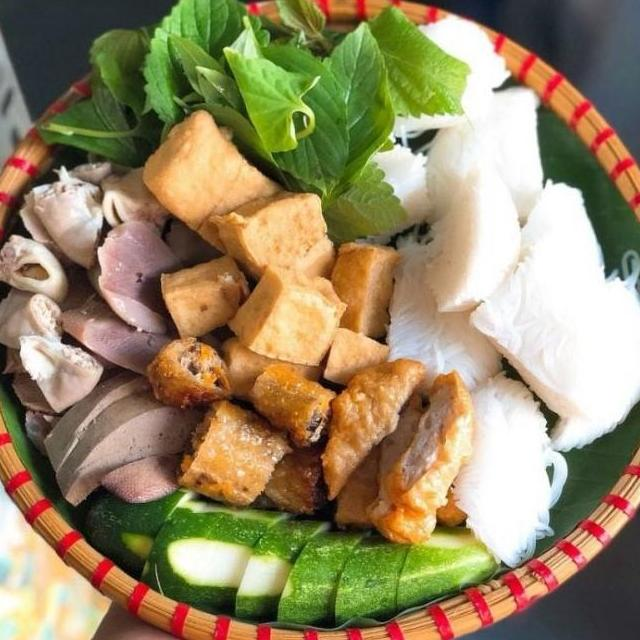bun: (363, 0, 640, 574)
bun dau: (0, 11, 640, 640)
cha com: (316, 346, 477, 542)
cha gio: (168, 390, 294, 514), (244, 354, 342, 456), (140, 328, 248, 412)
dau hu: (132, 106, 294, 254), (205, 178, 342, 292), (224, 262, 358, 374), (154, 244, 252, 338), (324, 235, 404, 346), (316, 322, 396, 397)
gan: (38, 368, 210, 514)
